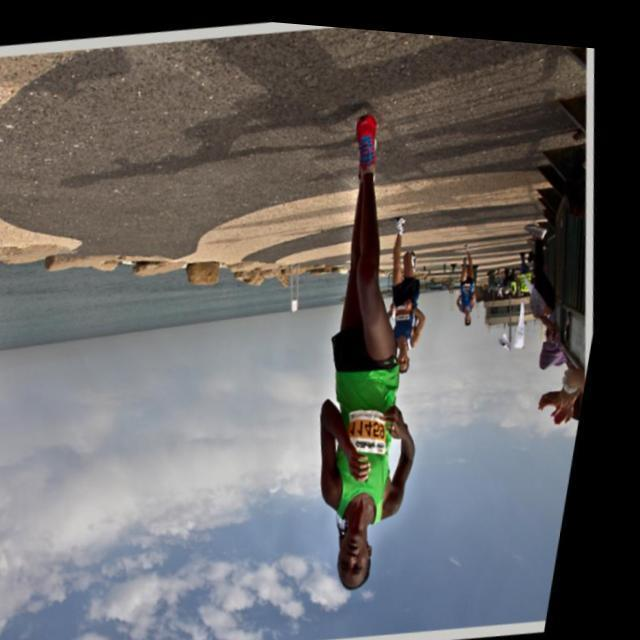dorsal: (347, 392, 416, 462)
